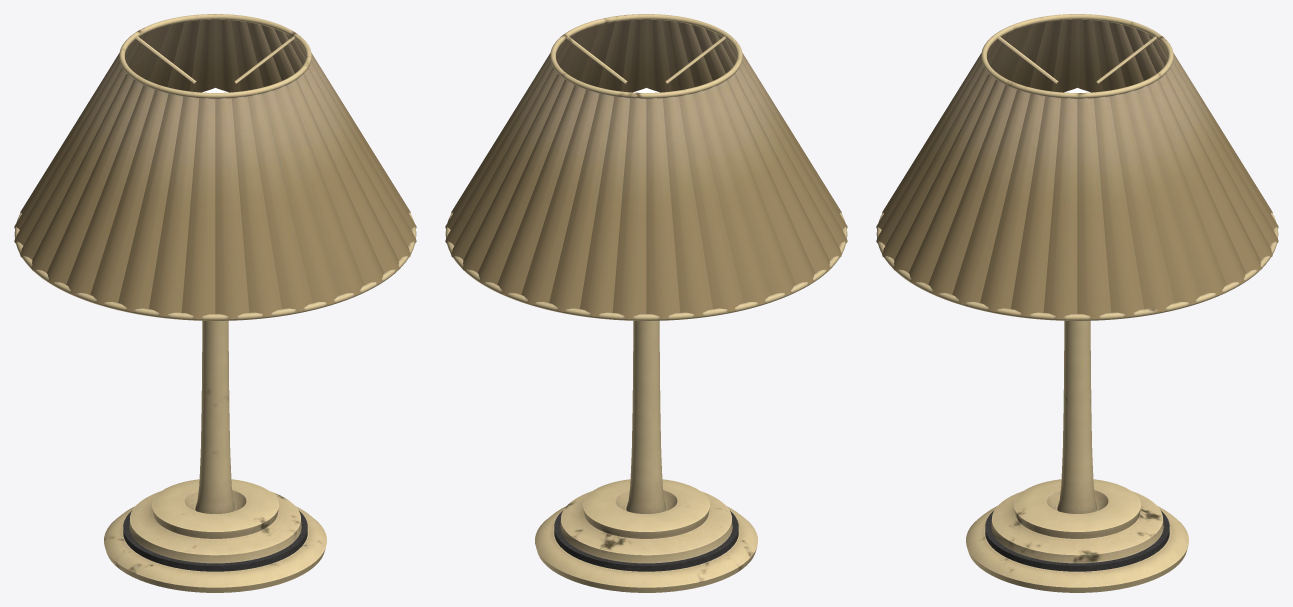
File: table_lamp.glb
3 renders of one model, left to right at view 1: azimuth 30°, elevation 25°; view 2: azimuth 150°, elevation 25°; view 3: azimuth 270°, elevation 25°, orthographic.
Visible parts, largest first — view 1: table_lamp; view 2: table_lamp; view 3: table_lamp.
Part boxes in pixels (x1,y1,x2,y2): table_lamp: (14,14,416,592); table_lamp: (445,14,847,592); table_lamp: (876,14,1278,592).
Size of the model in its own units: 0.3489 by 0.4734 by 0.3489.
Materials: 2 (1 with a texture image).
